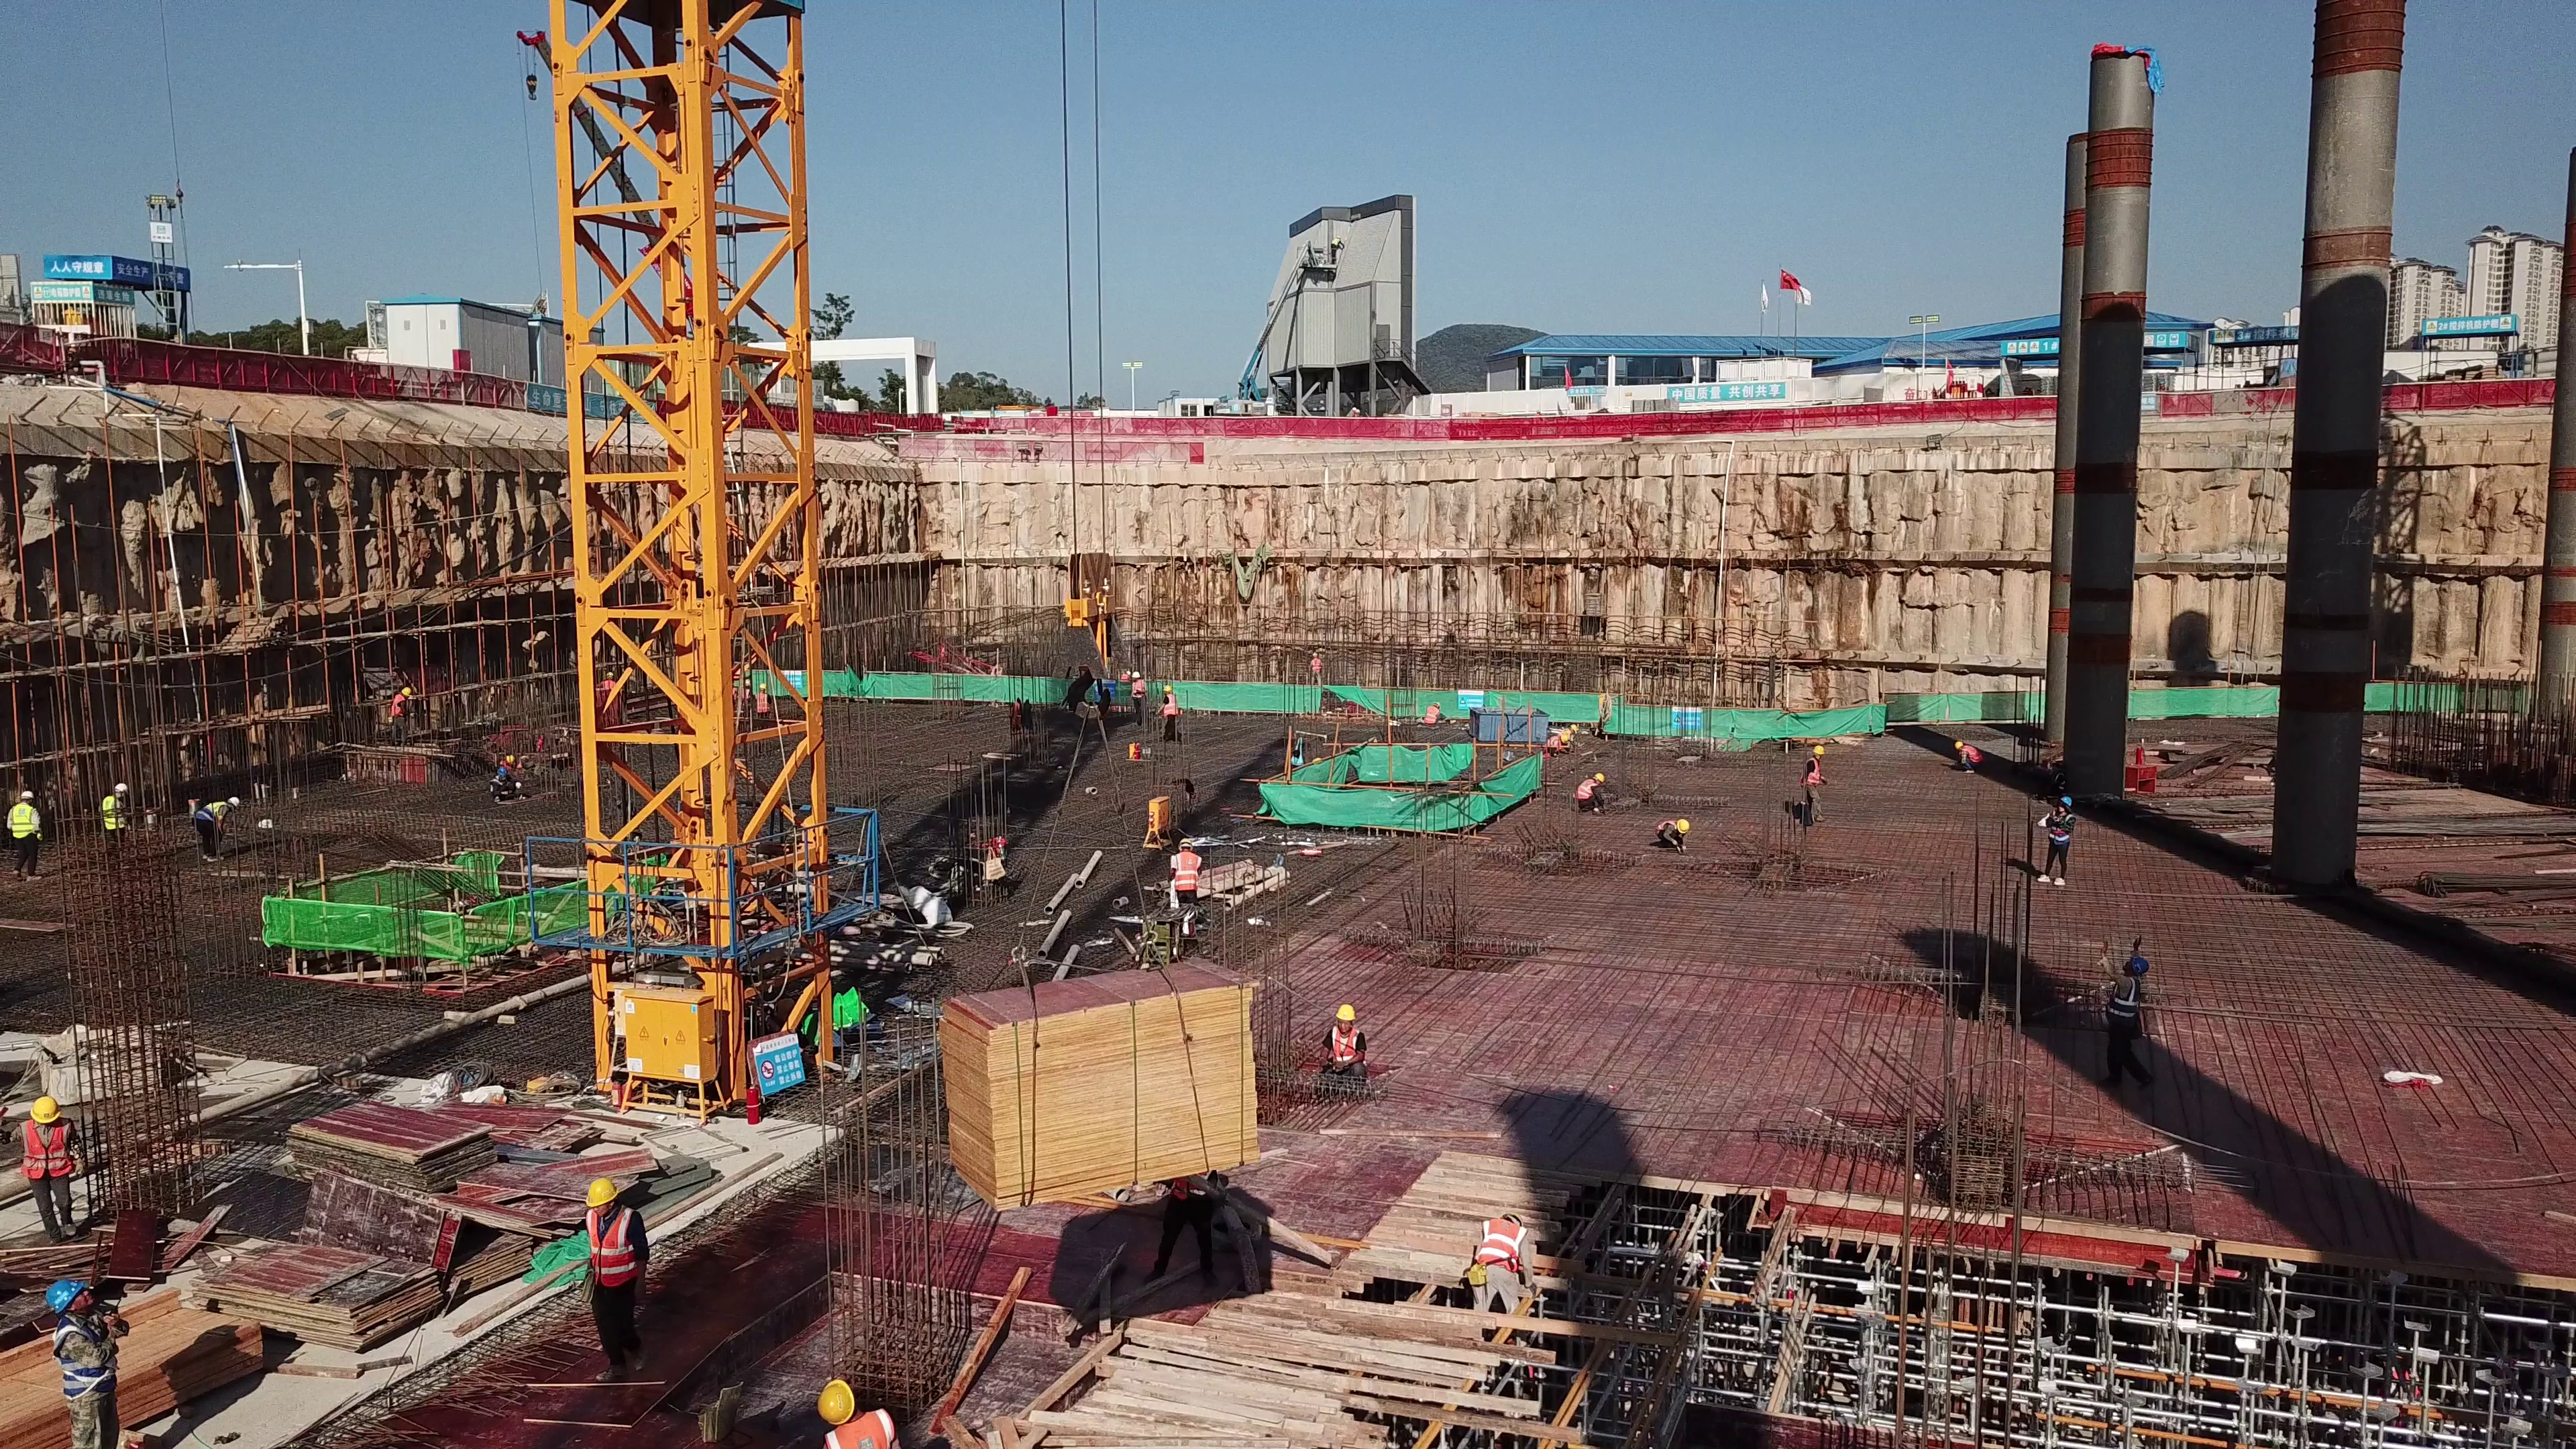helmet: (818, 1380, 855, 1417), (584, 1176, 629, 1201), (1331, 996, 1359, 1023), (1497, 1207, 1526, 1225), (2128, 952, 2147, 974), (1177, 838, 1197, 854), (114, 782, 131, 798), (2061, 794, 2076, 810), (1677, 819, 1690, 838), (227, 796, 244, 810), (402, 683, 417, 699), (1556, 731, 1569, 743), (494, 765, 508, 775), (17, 791, 34, 800), (1596, 771, 1609, 783), (1163, 682, 1173, 694), (1130, 665, 1141, 678), (1813, 743, 1825, 754), (1952, 742, 1962, 752), (1432, 700, 1446, 707)
person: (571, 1154, 676, 1406), (42, 1272, 140, 1449), (16, 1083, 107, 1239), (1452, 1212, 1568, 1324), (803, 1370, 916, 1449), (2100, 929, 2156, 1084), (1312, 1000, 1383, 1096), (2036, 794, 2086, 895), (5, 786, 49, 888), (1163, 830, 1210, 923), (191, 791, 240, 867), (1795, 742, 1830, 828), (99, 778, 136, 849), (1568, 770, 1609, 824), (382, 680, 417, 747), (1157, 681, 1190, 739), (1650, 816, 1699, 854), (1949, 737, 1990, 780), (1128, 672, 1150, 733), (489, 763, 521, 800), (1545, 724, 1583, 754), (593, 667, 625, 700), (753, 680, 772, 720), (1423, 696, 1446, 729), (1306, 653, 1326, 683)
vest: (56, 1311, 125, 1401), (584, 1207, 641, 1282), (19, 1124, 83, 1183), (1481, 1221, 1521, 1277), (838, 1417, 895, 1449), (1327, 1023, 1366, 1067), (2108, 980, 2142, 1030), (195, 798, 225, 833), (10, 803, 38, 841), (1170, 855, 1197, 894), (2051, 814, 2076, 849), (103, 802, 125, 833), (1805, 756, 1828, 786), (385, 695, 403, 724), (1577, 780, 1595, 805), (1163, 695, 1182, 716), (1655, 818, 1676, 836), (1426, 705, 1440, 729), (1962, 749, 1982, 763), (1134, 680, 1144, 700)
